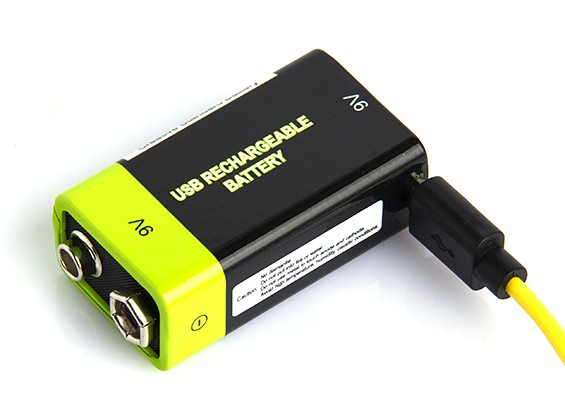9V: (49, 40, 432, 373)
